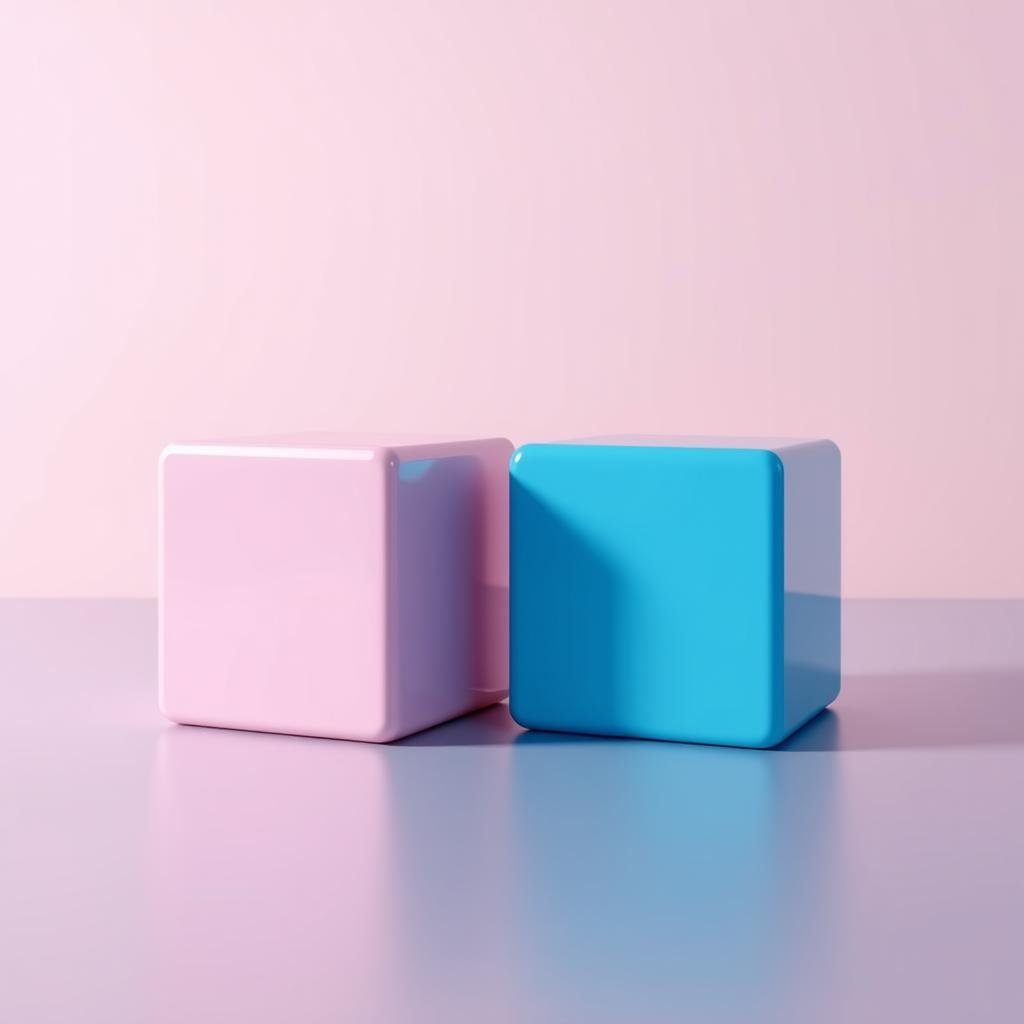cube: (156, 430, 513, 743), (507, 433, 842, 749)
